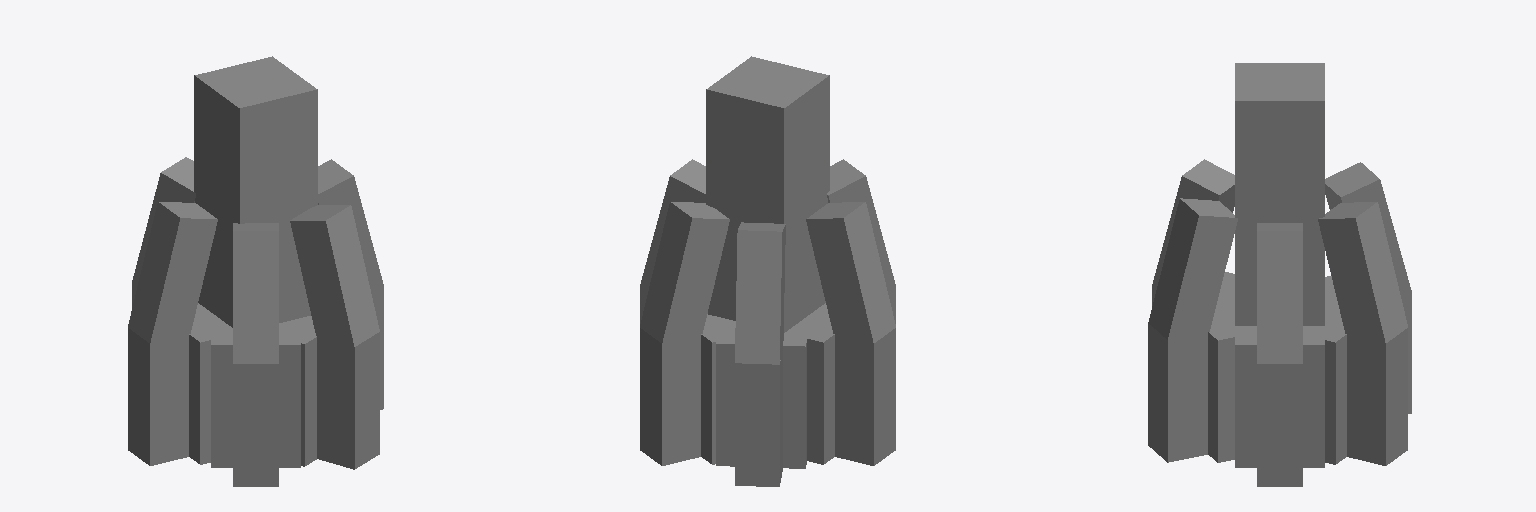
The model's file is missile_head_ion.obj.
The picture shows the model from 3 angles: view 1: azimuth 30°, elevation 25°; view 2: azimuth 150°, elevation 25°; view 3: azimuth 270°, elevation 25°; orthographic projection.
Visible parts, largest first — view 1: Component_42, group_14, Component_40, Component_41; view 2: Component_42, group_14, Component_40, Component_41; view 3: Component_42, Component_40, group_14, Component_41.
Boxes of the visible parts, <box> form: Component_42: <box>128,157,383,363</box>; group_14: <box>194,56,317,327</box>; Component_40: <box>128,283,383,486</box>; Component_41: <box>189,303,316,467</box>; Component_42: <box>640,159,895,364</box>; group_14: <box>706,56,829,332</box>; Component_40: <box>640,287,895,486</box>; Component_41: <box>701,303,834,468</box>; Component_42: <box>1148,159,1411,363</box>; Component_40: <box>1148,282,1411,486</box>; group_14: <box>1235,63,1324,325</box>; Component_41: <box>1208,272,1346,467</box>.
Bounding box in the file's own units: 75.59 × 107 × 73.68.